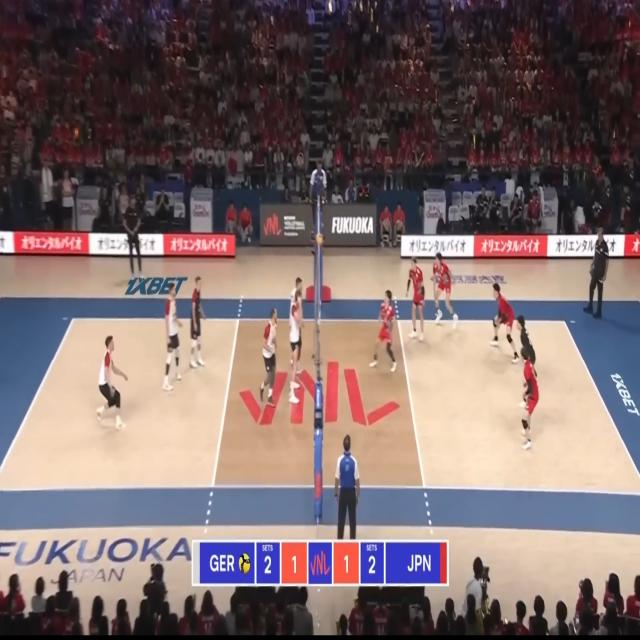ball: (316, 233, 323, 246)
